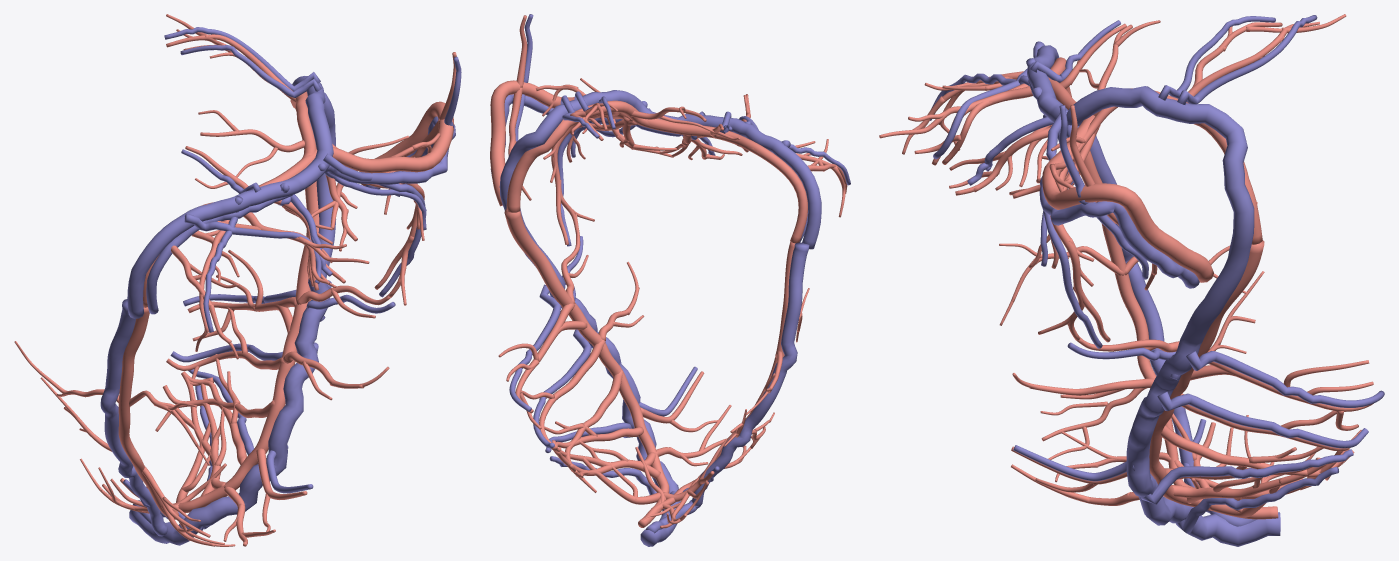
Rendered from vessels_10.glb.
3 views of the same model, side by side, from view 1: azimuth 30°, elevation 25°; view 2: azimuth 150°, elevation 25°; view 3: azimuth 270°, elevation 25° (orthographic). The views are drawn at different scales.
Visible parts, largest first — view 1: Renderer Node; view 2: Renderer Node; view 3: Renderer Node.
Part boxes in pixels (x1,y1,x2,y2): Renderer Node: [14, 14, 461, 546]; Renderer Node: [490, 14, 850, 546]; Renderer Node: [879, 14, 1384, 546].
Bounding box in the file's own units: 92.97 × 115 × 93.02.
